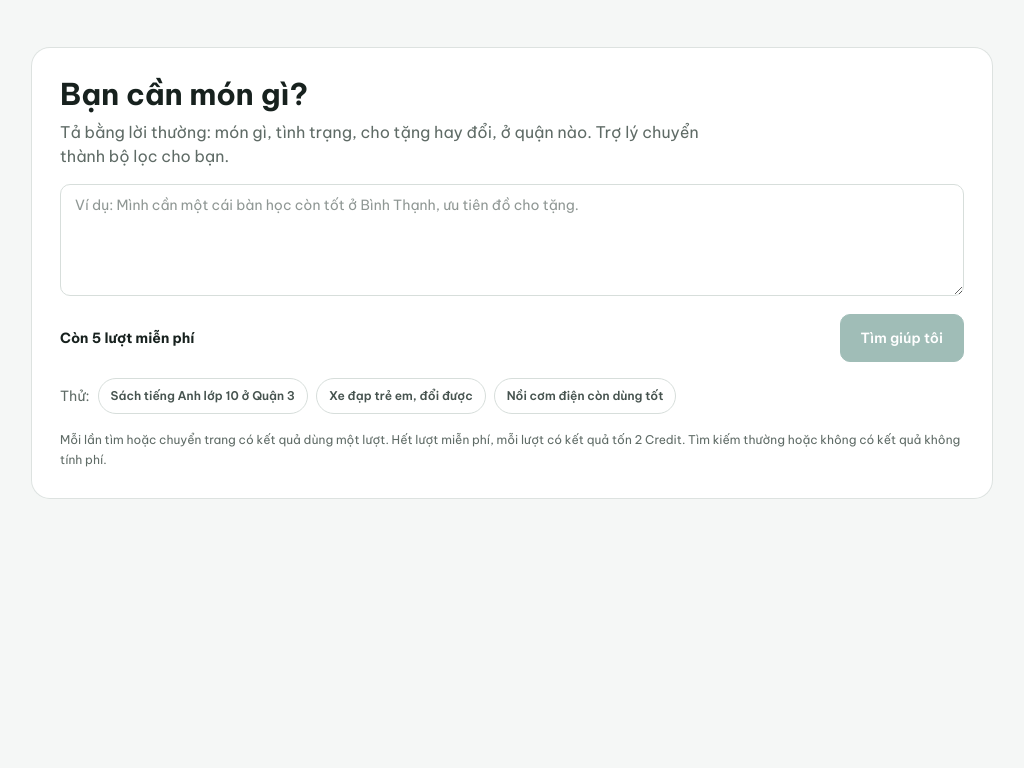
Test: AI search quota › tải lại quota từ Backend sau khi tìm kiếm thành công
Expected: the text "Còn 5 lượt miễn phí" is shown, top-left (60, 329), bottom-right (194, 347)
In the text box named "Mô tả món đồ cần tìm": (512, 240) top-left (60, 184), bottom-right (964, 296), type "Tìm sách cũ"
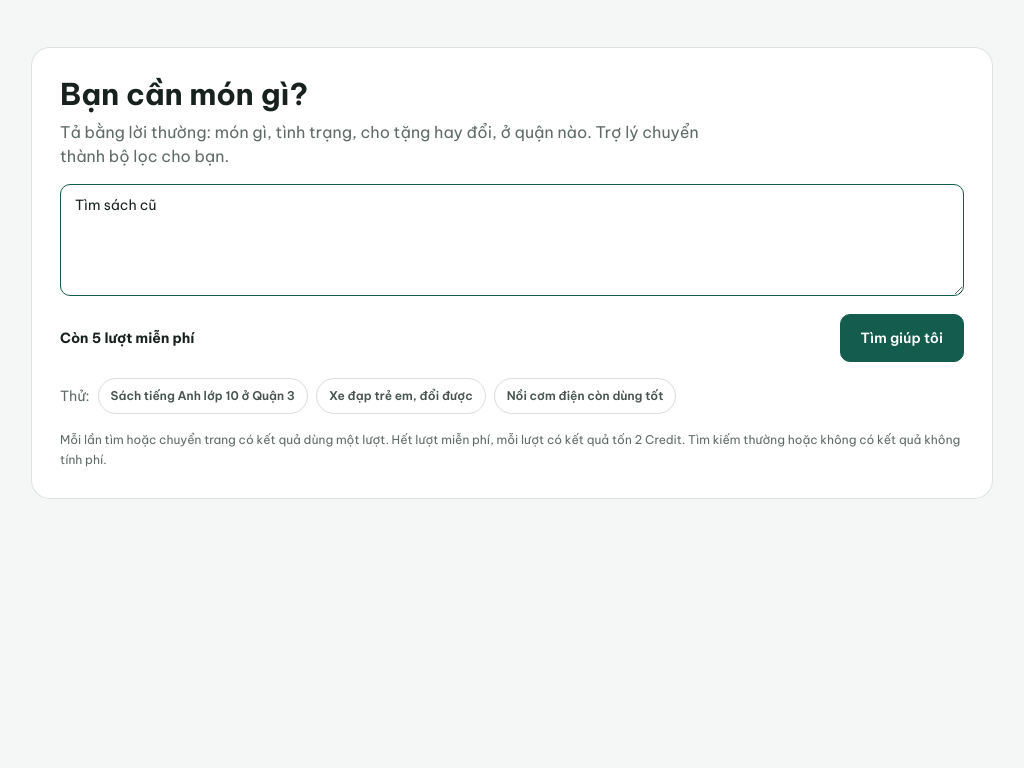
Click the button "Tìm giúp tôi": (902, 338) top-left (840, 314), bottom-right (964, 362)
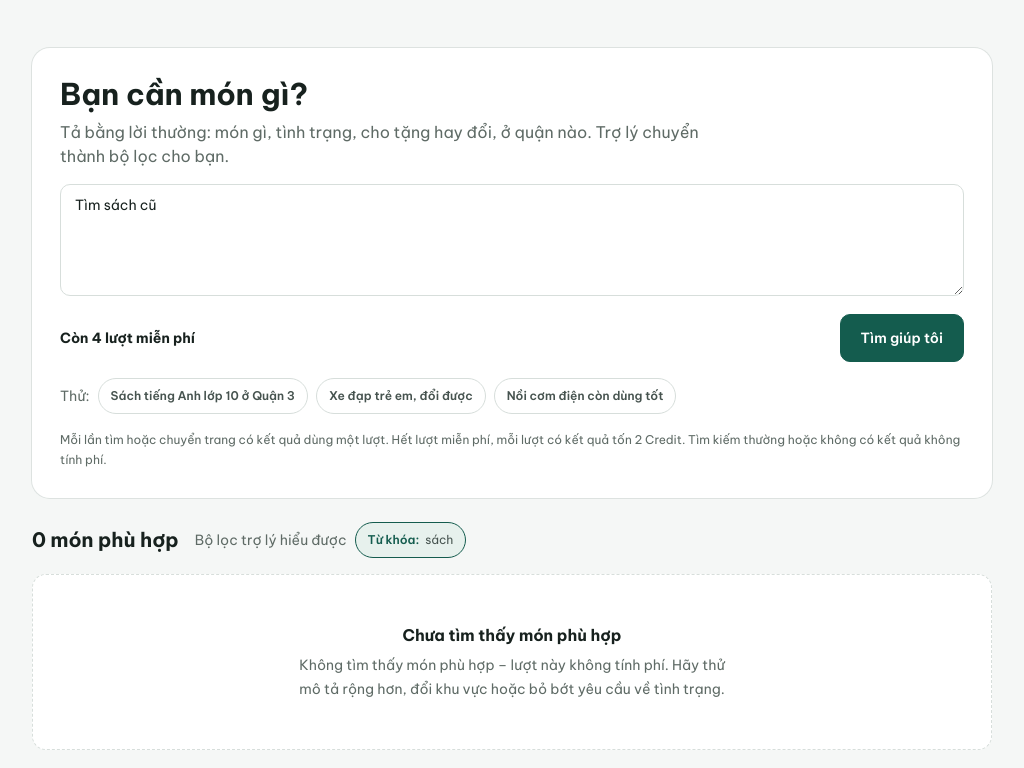
Expected: the text "Còn 4 lượt miễn phí" is shown, top-left (60, 329), bottom-right (195, 347)
